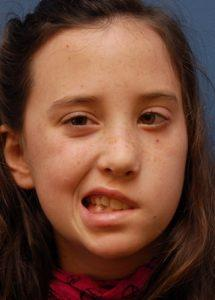strokeEyeMid: (44, 86, 183, 139)
strokeMouthSevere: (65, 182, 148, 227)
